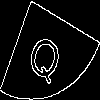Q: (24, 25, 67, 86)
